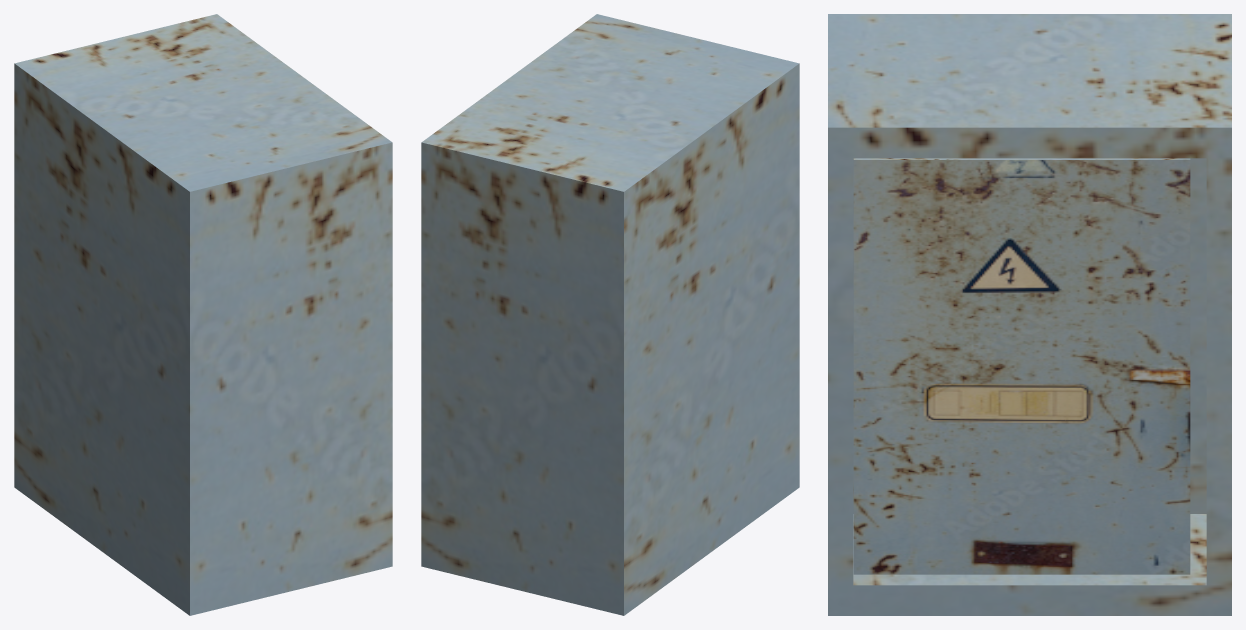
Rendered from electrical box.fbx.
3 views of the same model, side by side, from view 1: azimuth 30°, elevation 25°; view 2: azimuth 150°, elevation 25°; view 3: azimuth 270°, elevation 25° (orthographic). The views are drawn at different scales.
Visible parts, largest first — view 1: Outer Shell; view 2: Outer Shell; view 3: Door, Outer Shell.
Part boxes in pixels (bbox=[...]): Outer Shell: bbox=[14, 14, 392, 615]; Outer Shell: bbox=[421, 14, 799, 615]; Door: bbox=[853, 158, 1190, 574]; Outer Shell: bbox=[828, 14, 1231, 615].
Size of the model in its own units: 200 by 400 by 300.
2 materials, 2 textured.
